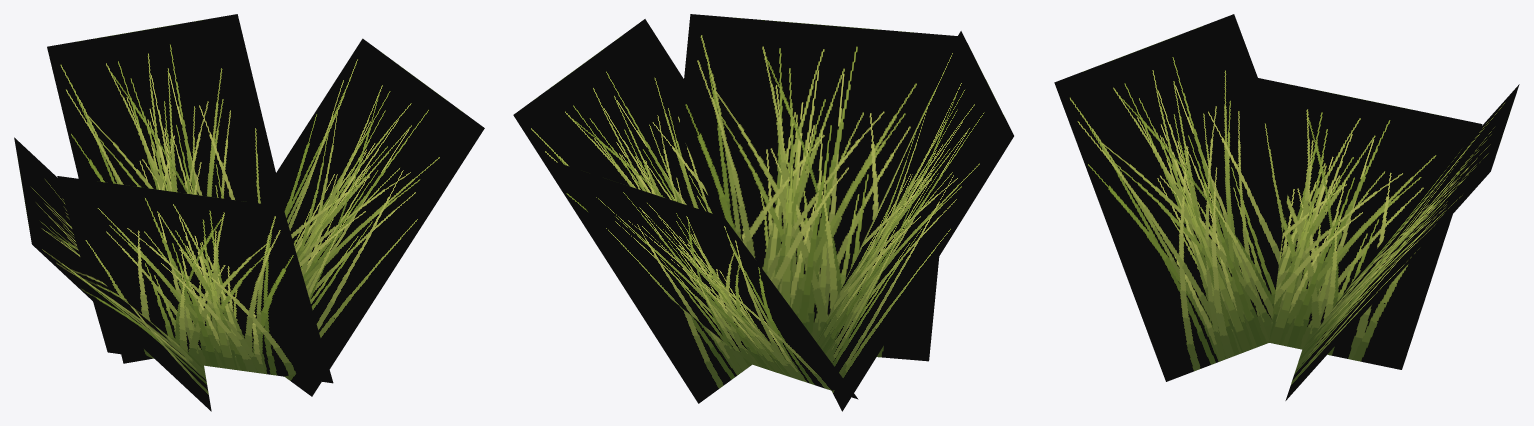
File: grass_a.glb
3 renders of one model, left to right at view 1: azimuth 30°, elevation 25°; view 2: azimuth 150°, elevation 25°; view 3: azimuth 270°, elevation 25°, orthographic. The views are drawn at different scales.
Parts seen in each view (by area): view 1: grass_a; view 2: grass_a; view 3: grass_a.
Part boxes in pixels (bbox=[...]): grass_a: bbox=[14, 14, 484, 411]; grass_a: bbox=[513, 14, 1013, 411]; grass_a: bbox=[1054, 14, 1519, 400].
Bounding box in the file's own units: 0.7222 × 0.4141 × 0.7067.
1 material, 1 textured.
